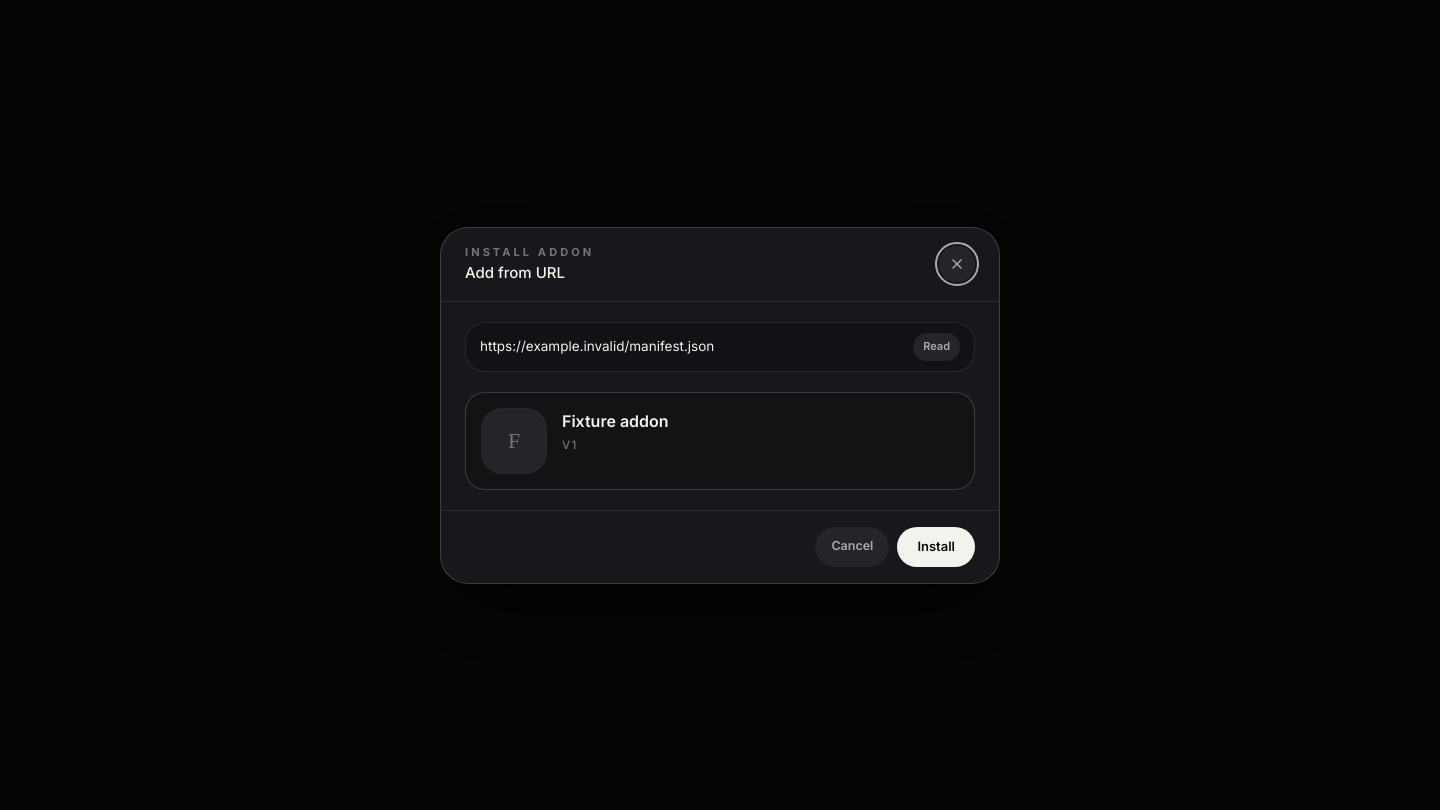
reports synced without conflating local saving with synchronization
Step 1. Click the button "Install" → (936, 546), box [897,526,975,566]
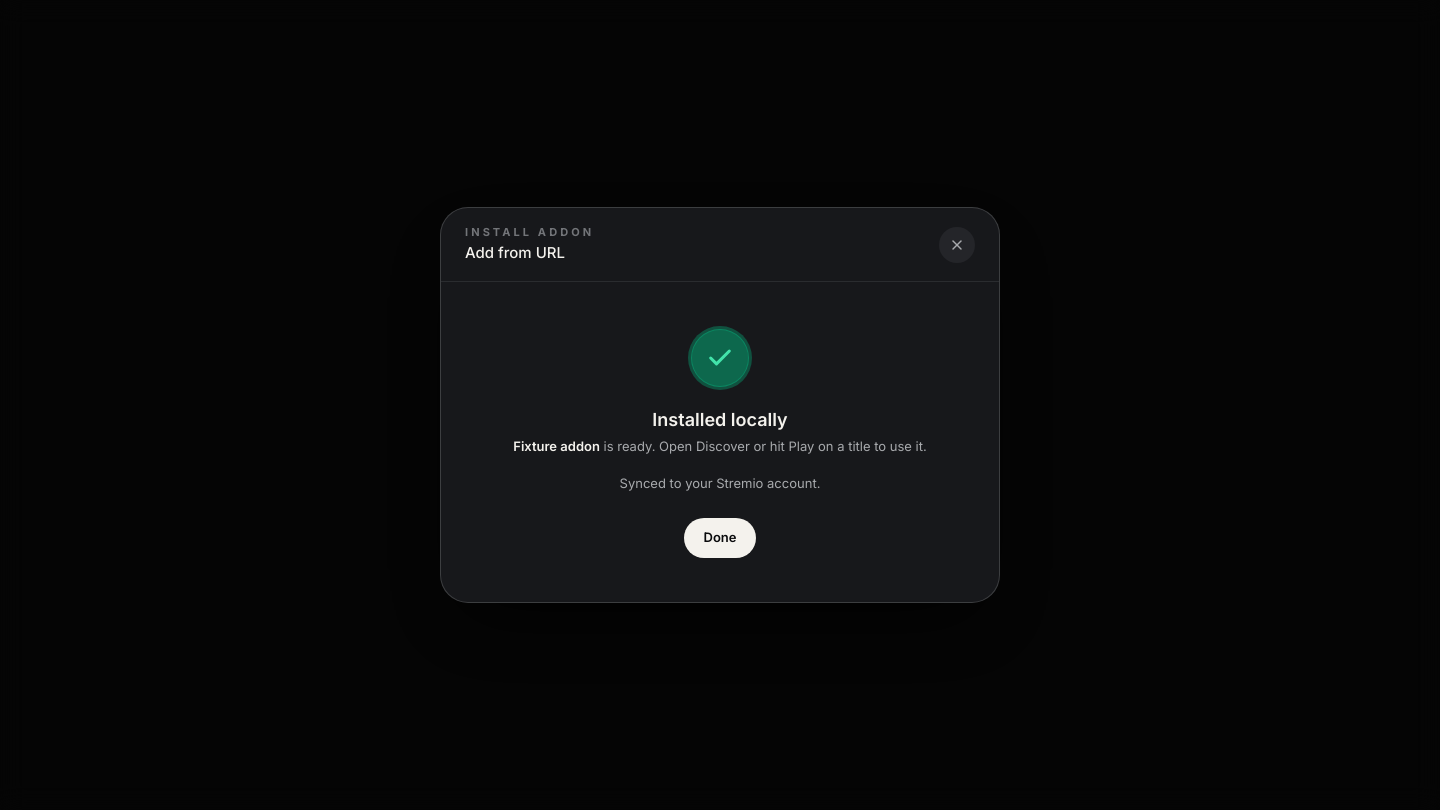
Expected: the heading "Installed locally" is shown, [652,409,788,430]
Expected: the message "Synced to your Stremio account." is shown, [620,473,820,494]
